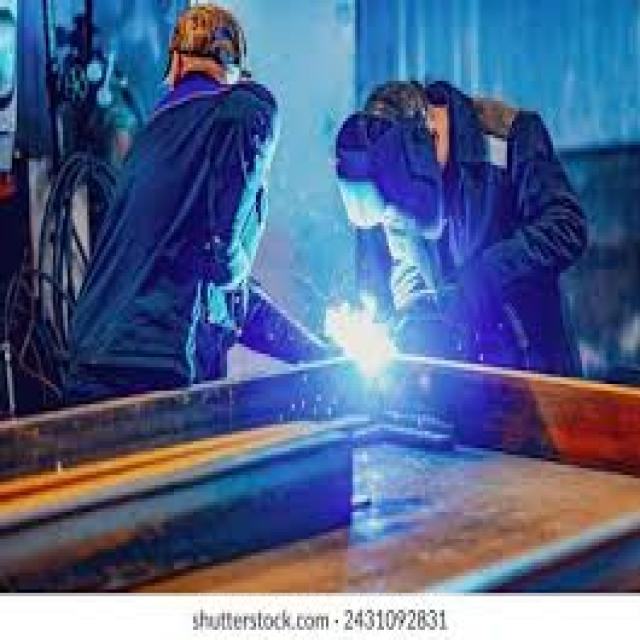welding: (338, 307, 386, 367)
